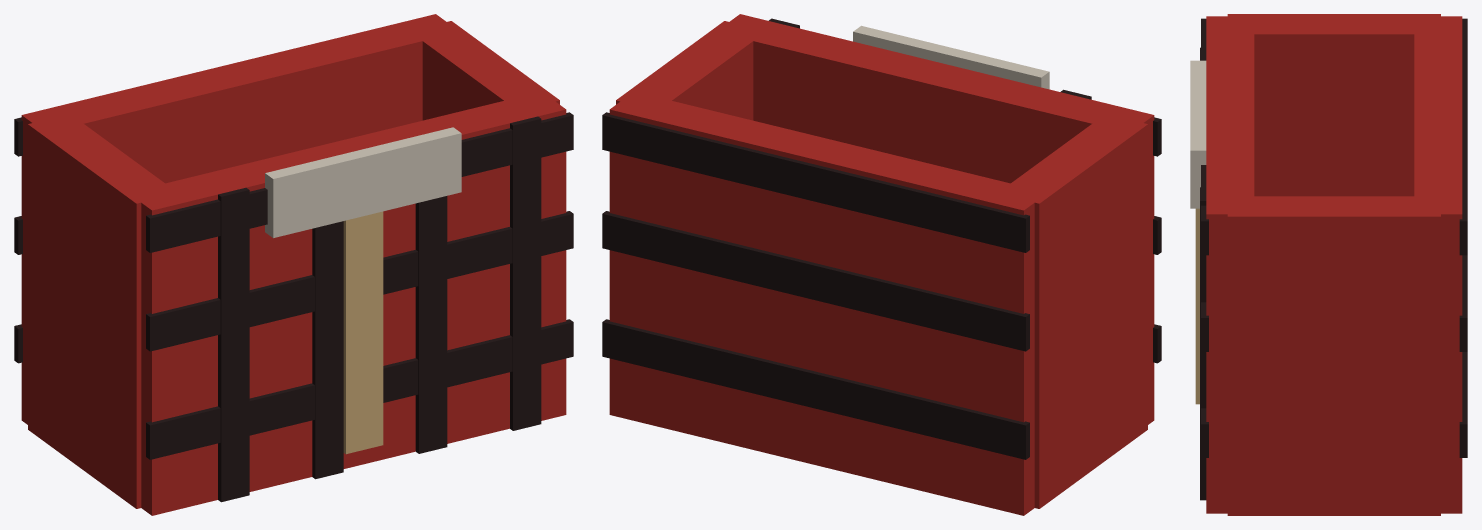
The model's file is jacket_plaid.glb.
The picture shows the model from 3 angles, left to right: view 1: azimuth 30°, elevation 25°; view 2: azimuth 150°, elevation 25°; view 3: azimuth 270°, elevation 25°; orthographic projection. The views are drawn at different scales.
Parts seen in each view (by area): view 1: jacket_plaid; view 2: jacket_plaid; view 3: jacket_plaid.
Boxes of the visible parts, left/top/right/bottom form: jacket_plaid: left=14, top=14, right=573, bottom=515; jacket_plaid: left=602, top=14, right=1161, bottom=515; jacket_plaid: left=1190, top=14, right=1467, bottom=515.
Size of the model in its own units: 0.9 by 0.64 by 0.5201.
